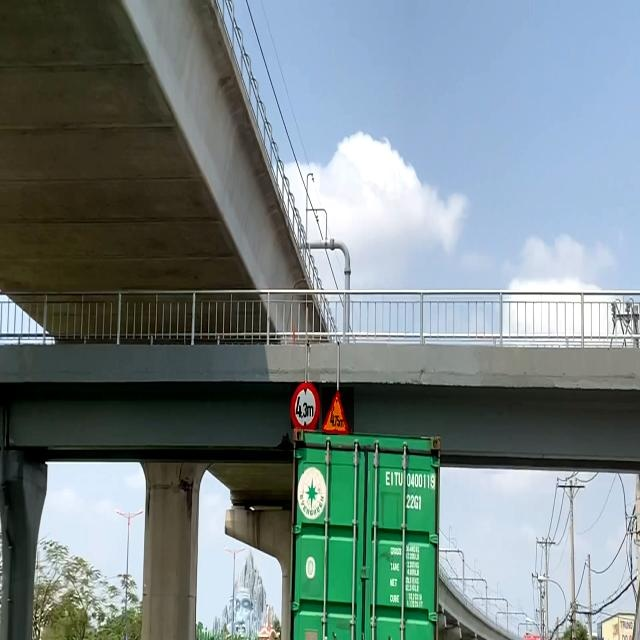bien_cam: (322, 387, 354, 435), (291, 383, 319, 429)
